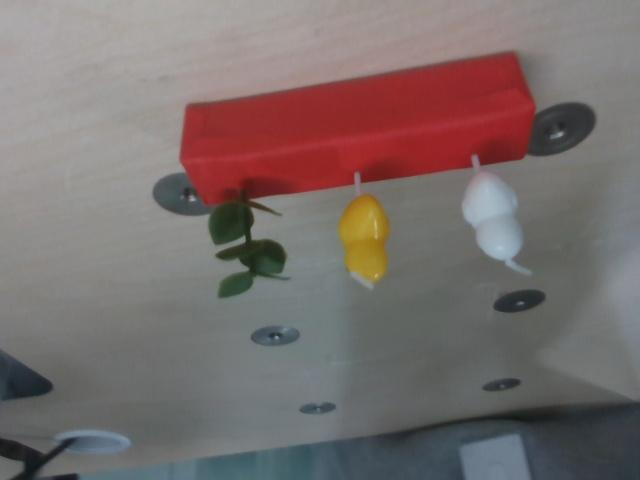leaf: (203, 179, 302, 302)
w_duck: (454, 146, 549, 281)
y_duck: (331, 165, 404, 294)
